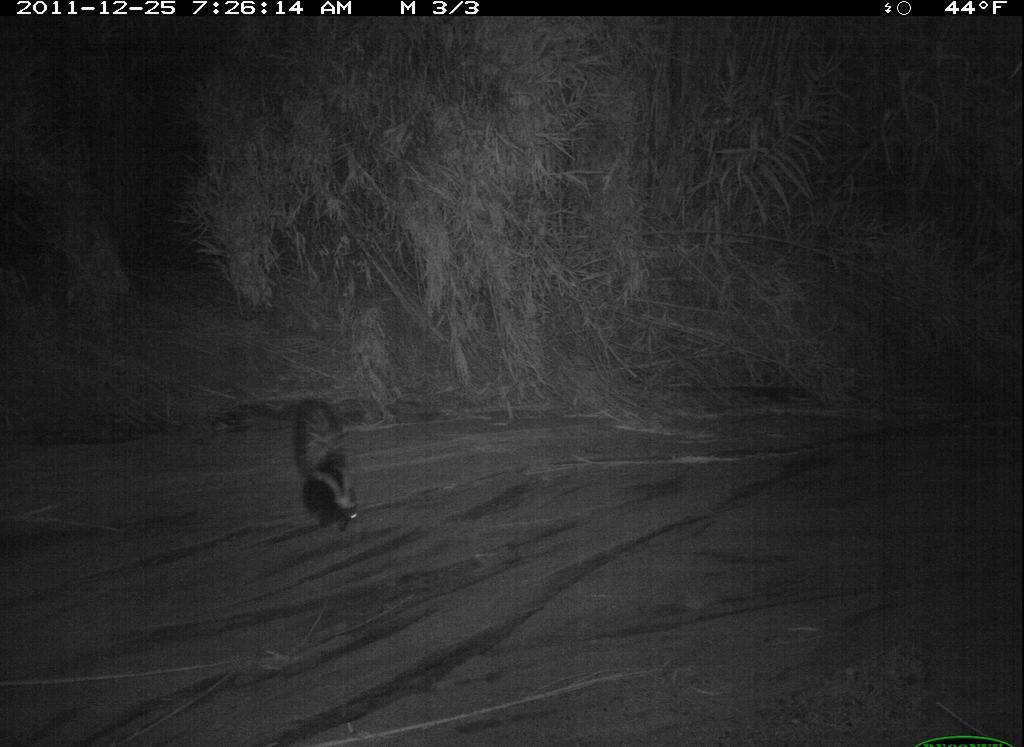skunk: (277, 396, 378, 543)
